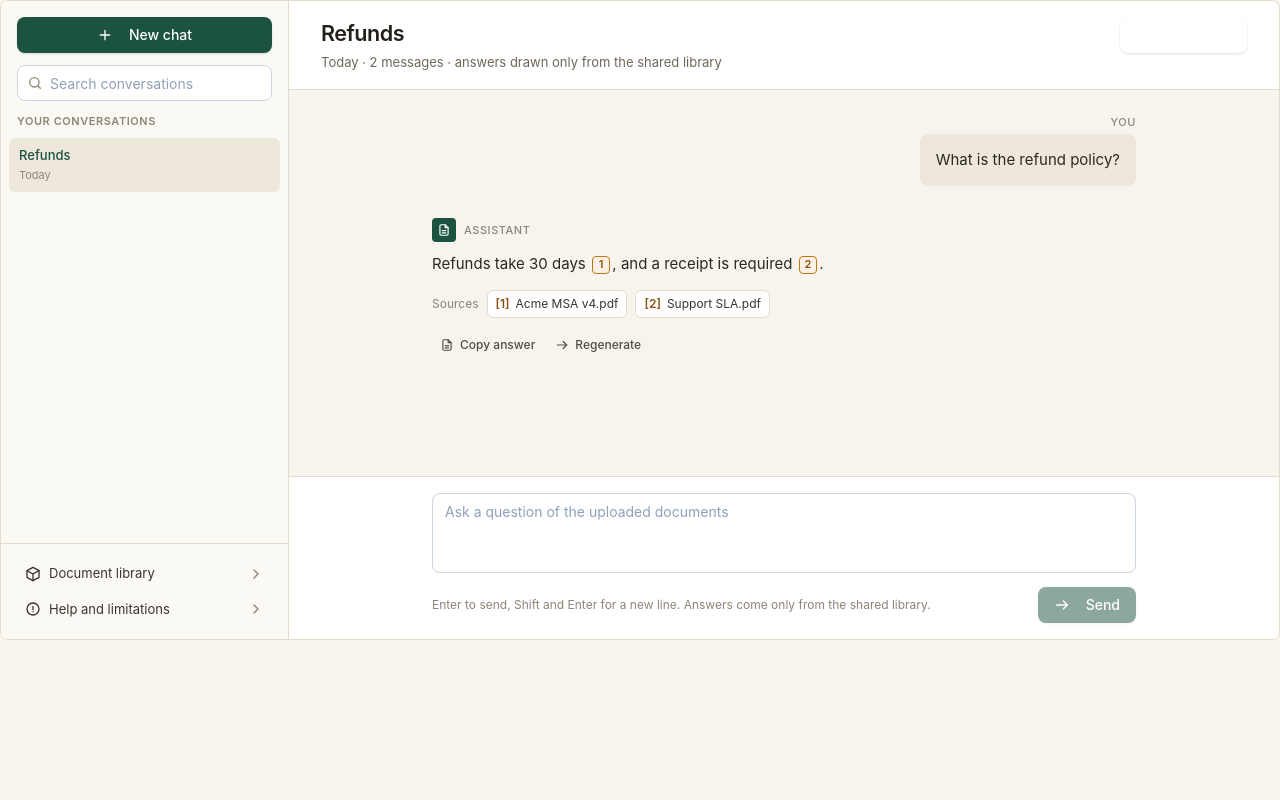
Test: Chat screen › citation panel: navigation, scroll, focus (AC-107..110) › lets the user move between several sources on one answer without closing the panel (AC-108)
Expected: the text "Refunds take 30 days" is shown, [432,254,590,273]
Step 1. Click the button named "Source 1: Acme MSA v4.pdf" → click(601, 265), box [592,256,610,274]
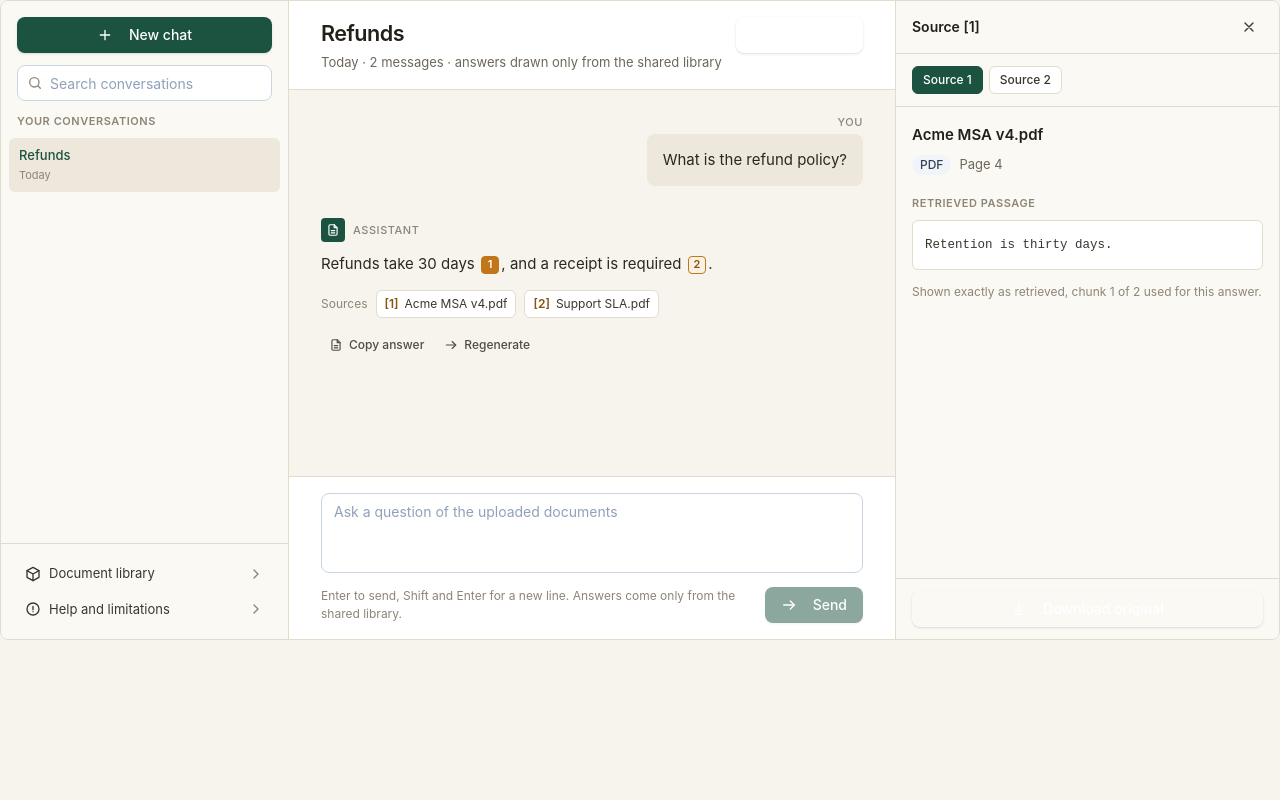
Now the heading "Acme MSA v4.pdf" is shown, box [912,125,1043,144]
Step 2. Click the button "Source 2" → click(1025, 80), box [989,66,1062,94]
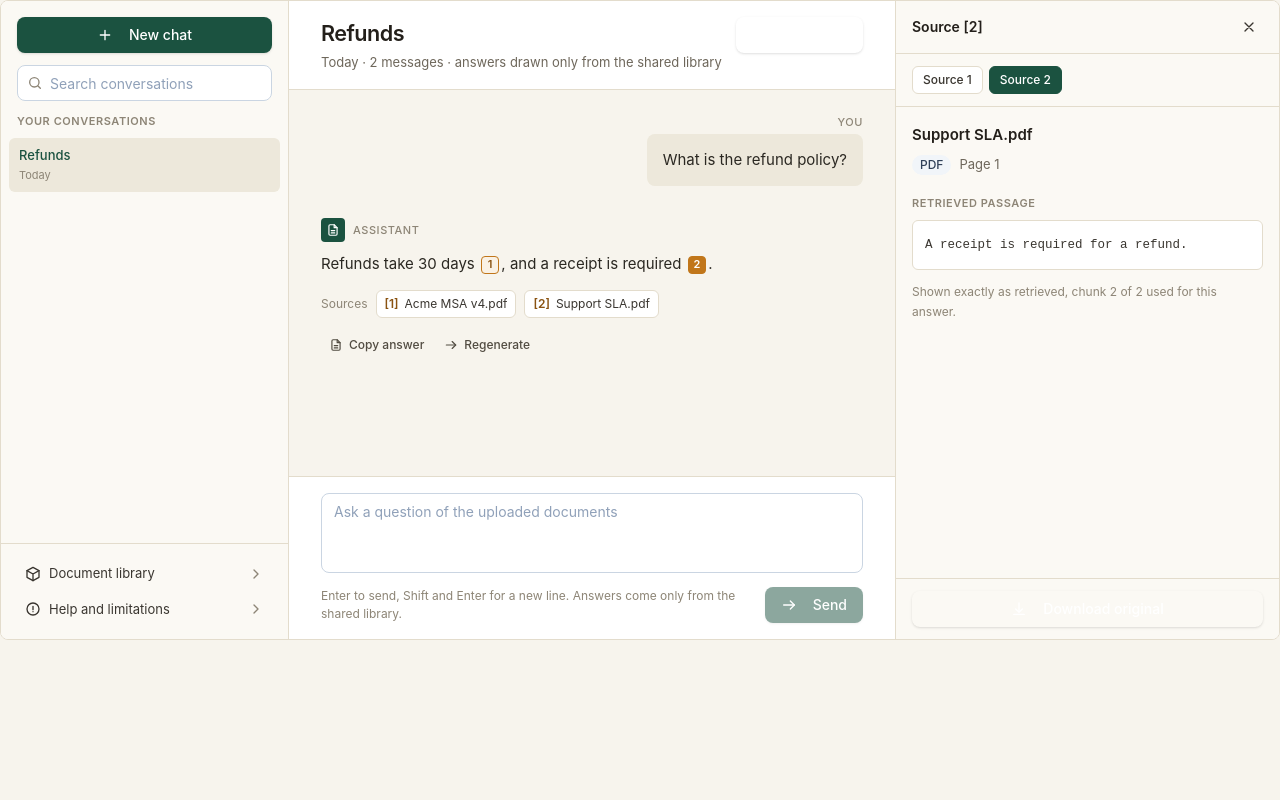
Now the heading "Support SLA.pdf" is shown, box [912,125,1033,144]
Now the text "A receipt is required for a refund." is shown, box [912,220,1263,270]
Step 3. Click the button "Source 1" → click(947, 80), box [912,66,983,94]
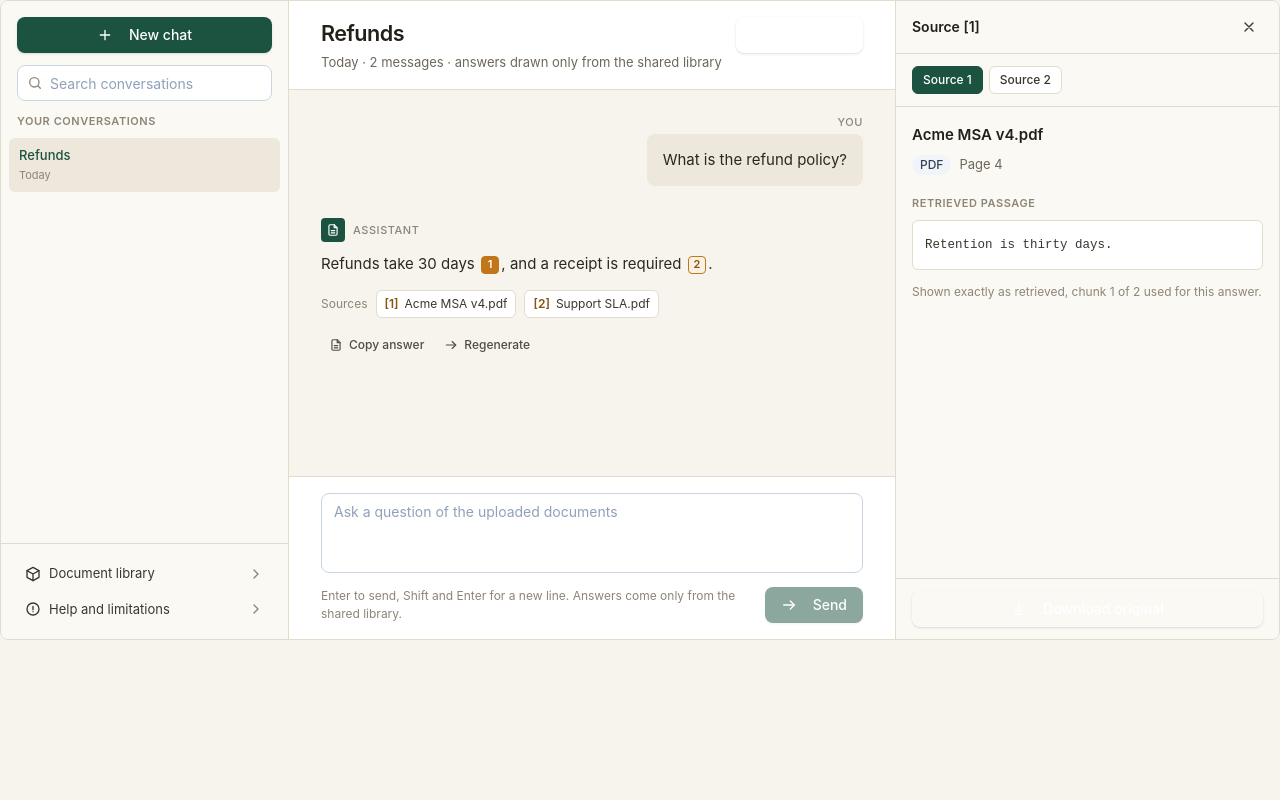
Now the heading "Acme MSA v4.pdf" is shown, box [912,125,1043,144]
